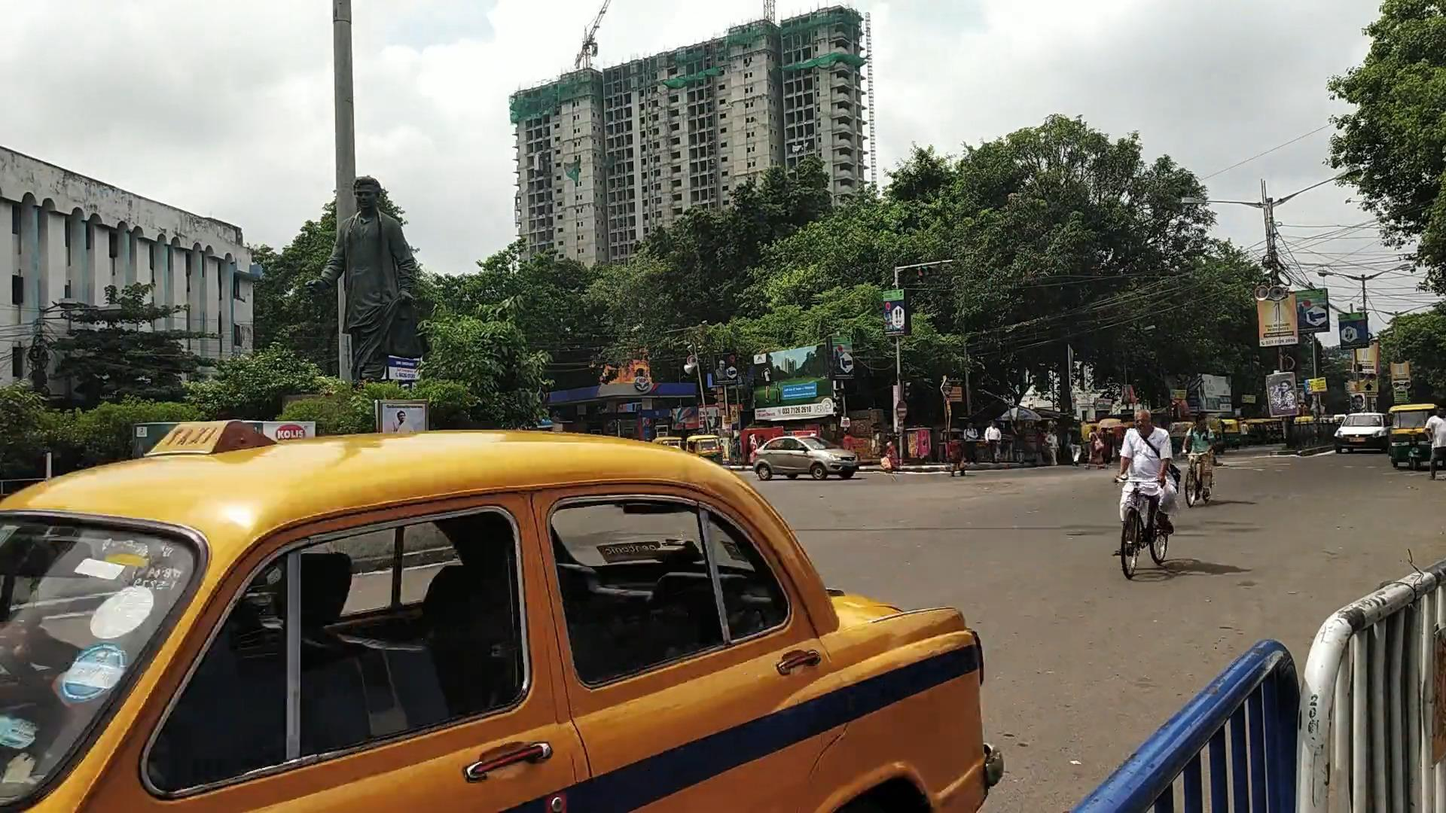bicyclist: (1113, 408, 1181, 579), (1177, 416, 1218, 508)
no-helmet: (1134, 409, 1151, 435)
